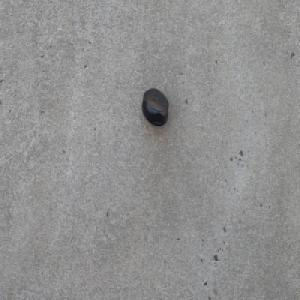FuelCap: (141, 87, 168, 128)
